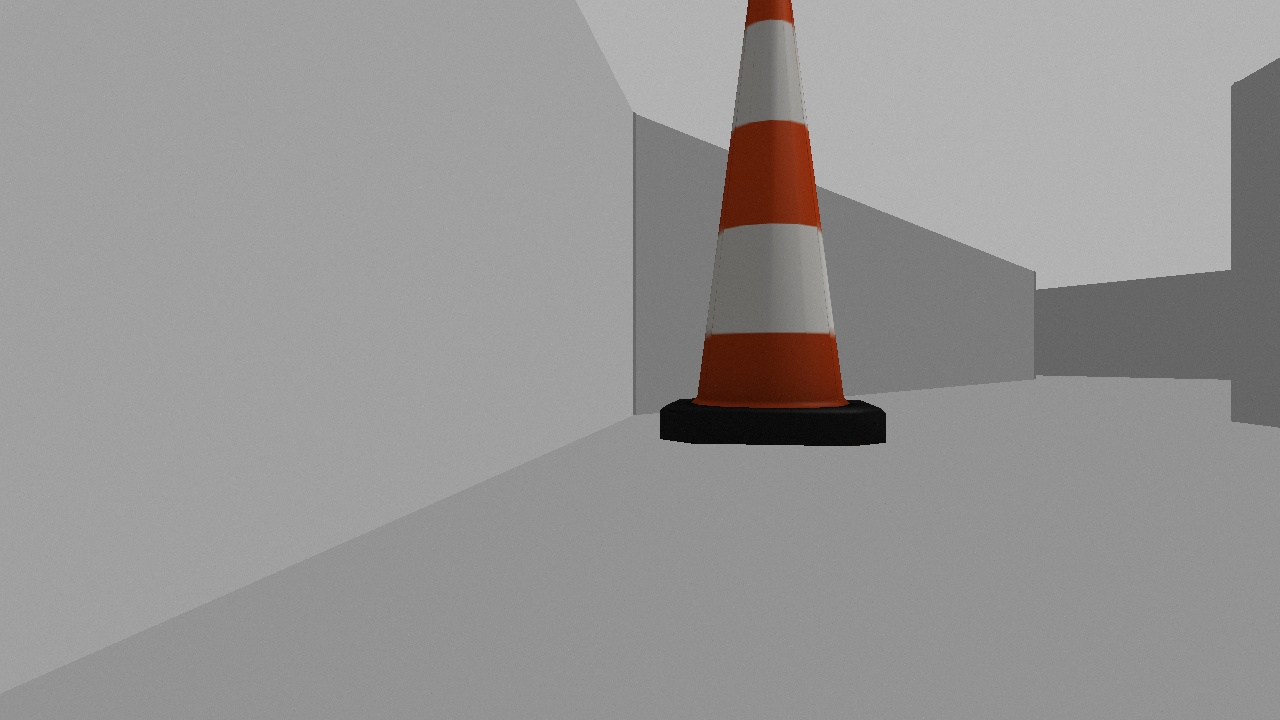barricade: (623, 1, 898, 464)
